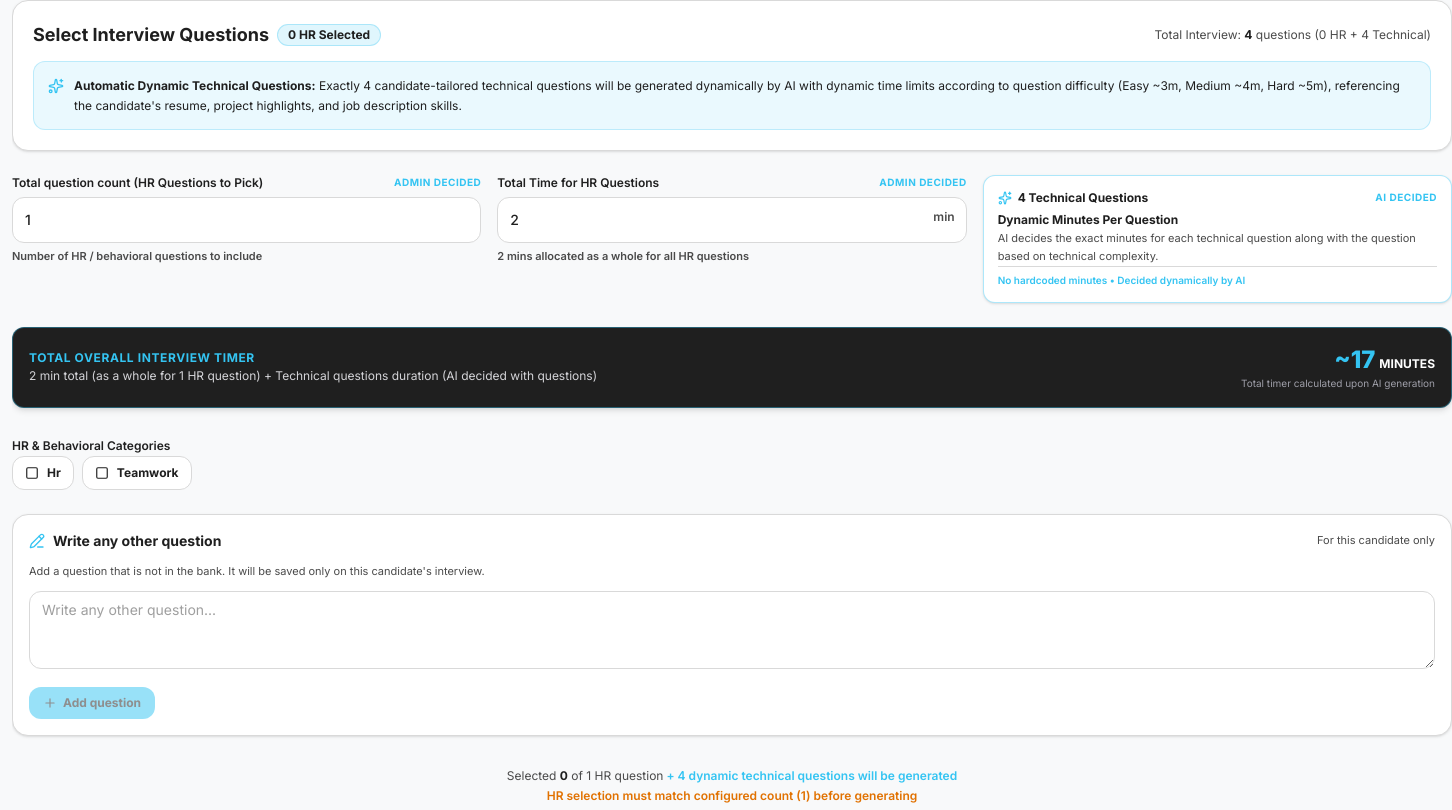
Test: QuestionBankSelector › disables Generate until the selected count matches the configured question count
Expected: the text "hr" is shown, 47,465 -> 61,481
Replace the text in the number field labelled "Total question count" with "2". click: (247, 220)
box: 12,197 -> 481,243
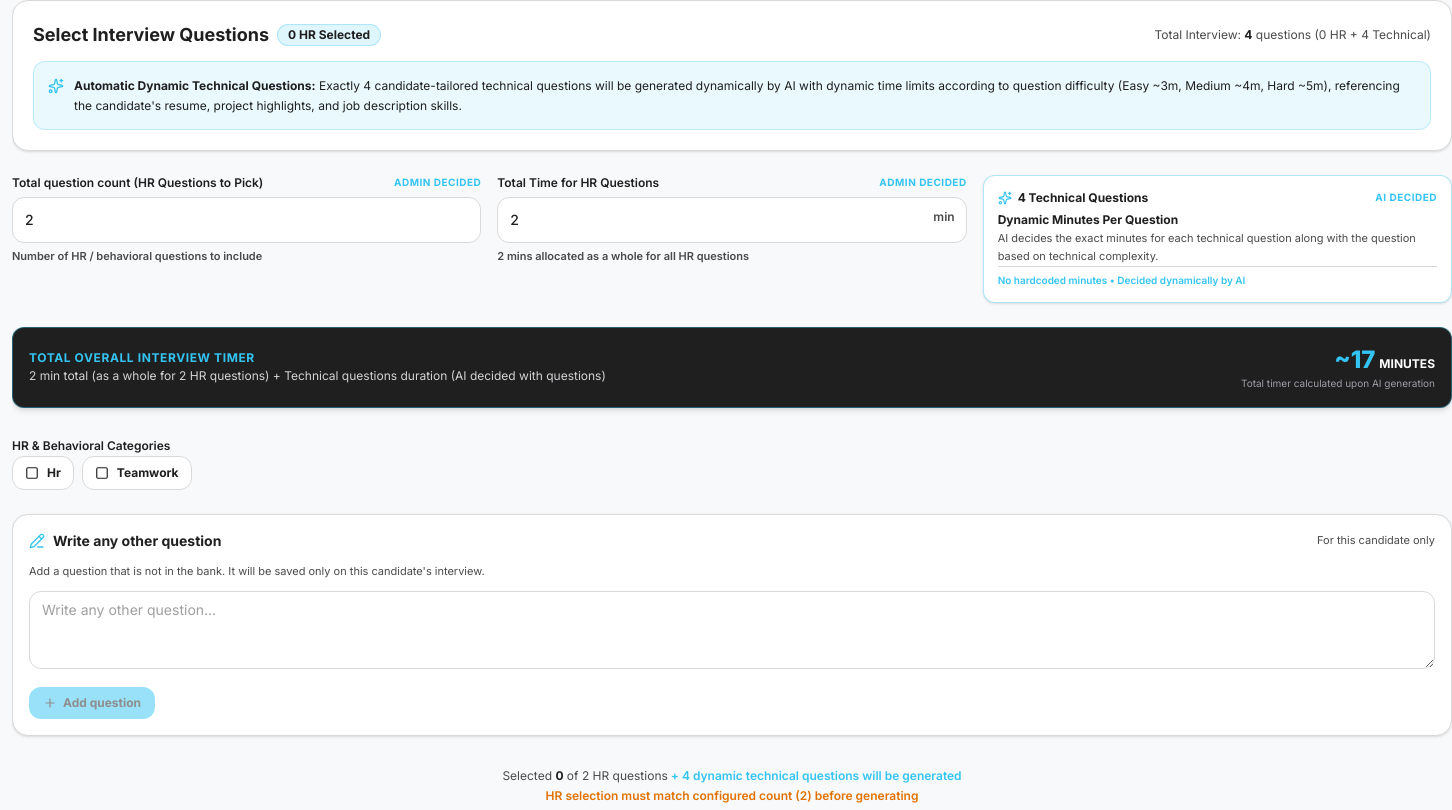
Click the button "hr". click: (43, 473)
box: 12,456 -> 74,490
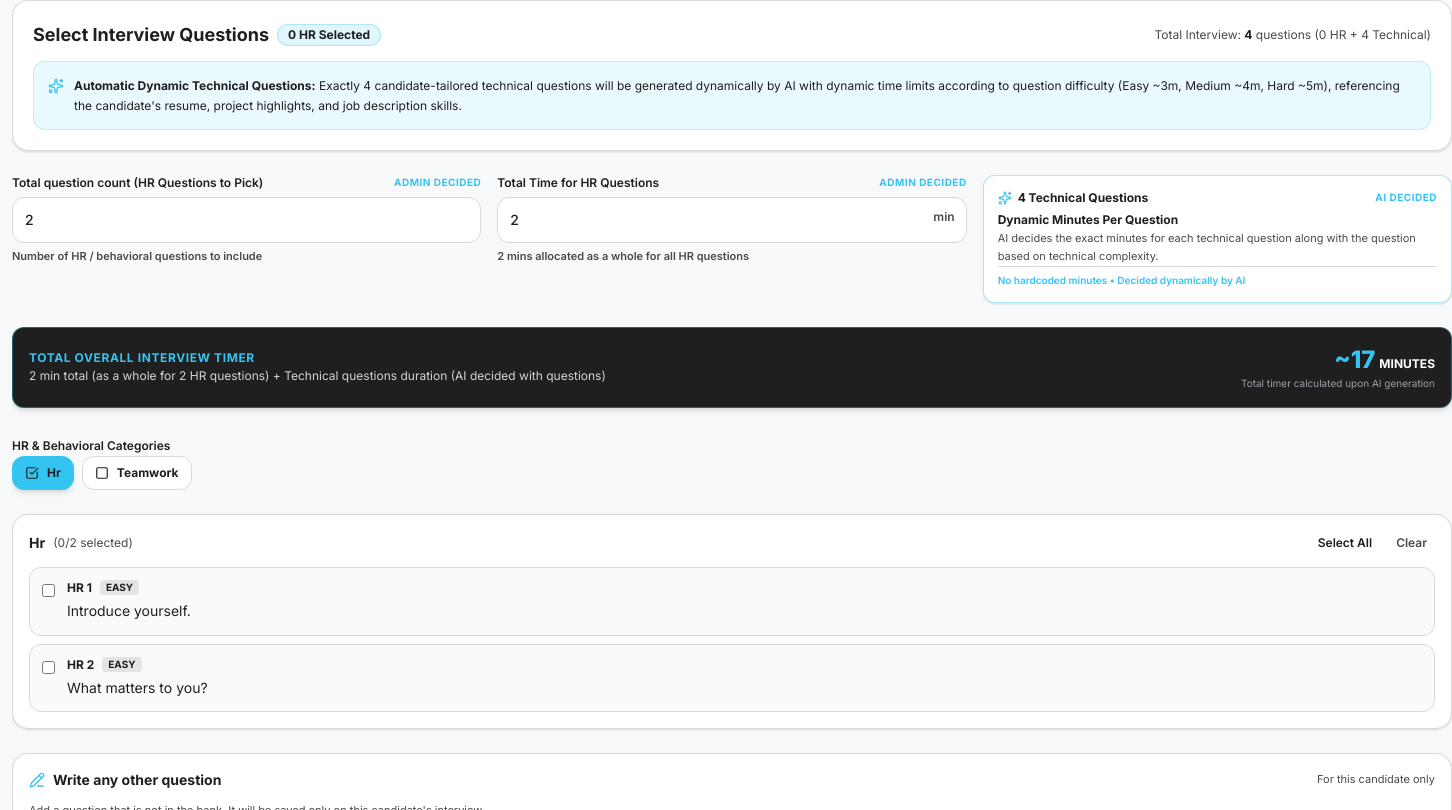
Expected: the text "Introduce yourself." is shown
Click the text "Introduce yourself.". click: (129, 610)
box: 67,602 -> 191,619
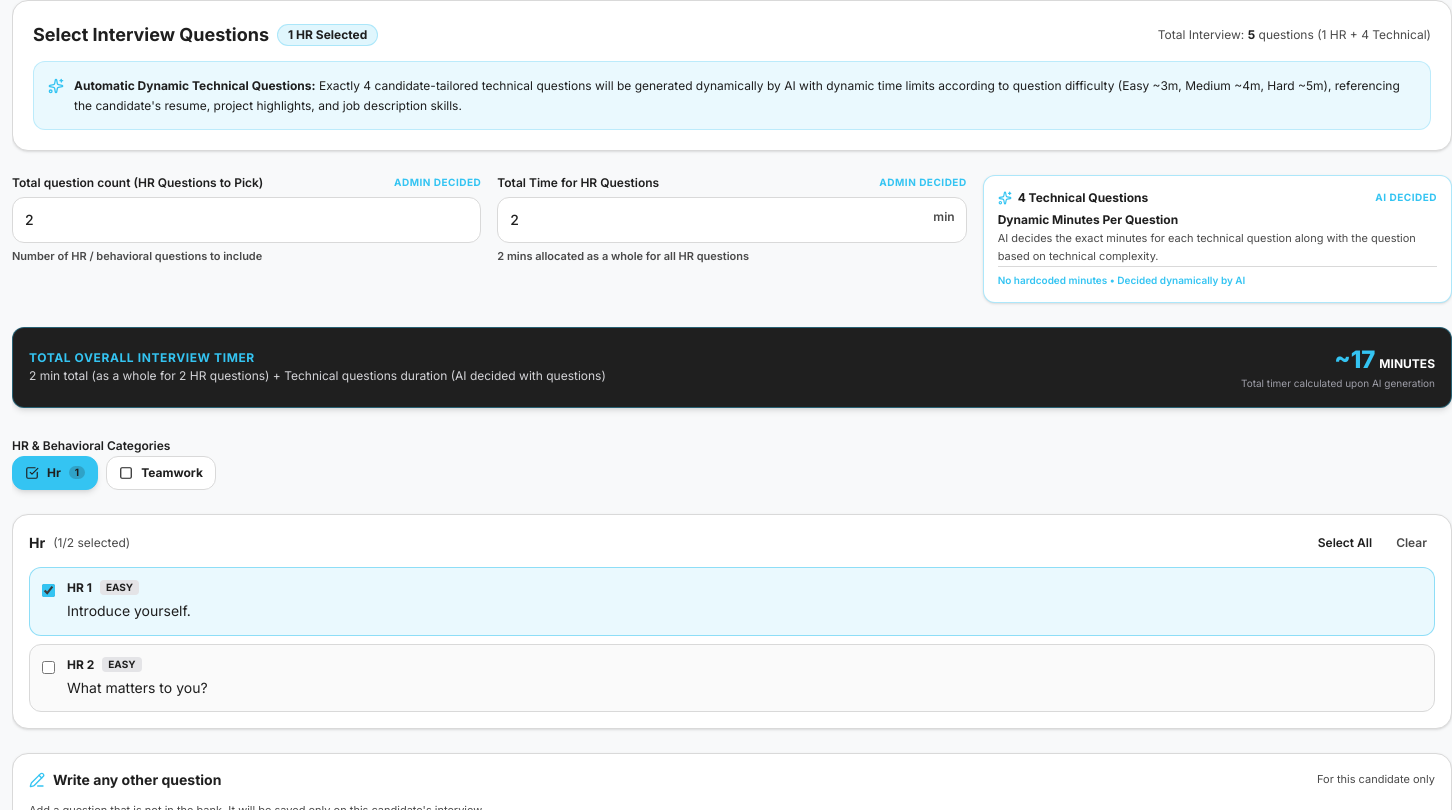
Click the text "What matters to you?". click: (137, 687)
box: 67,678 -> 208,696
(page scrolled)
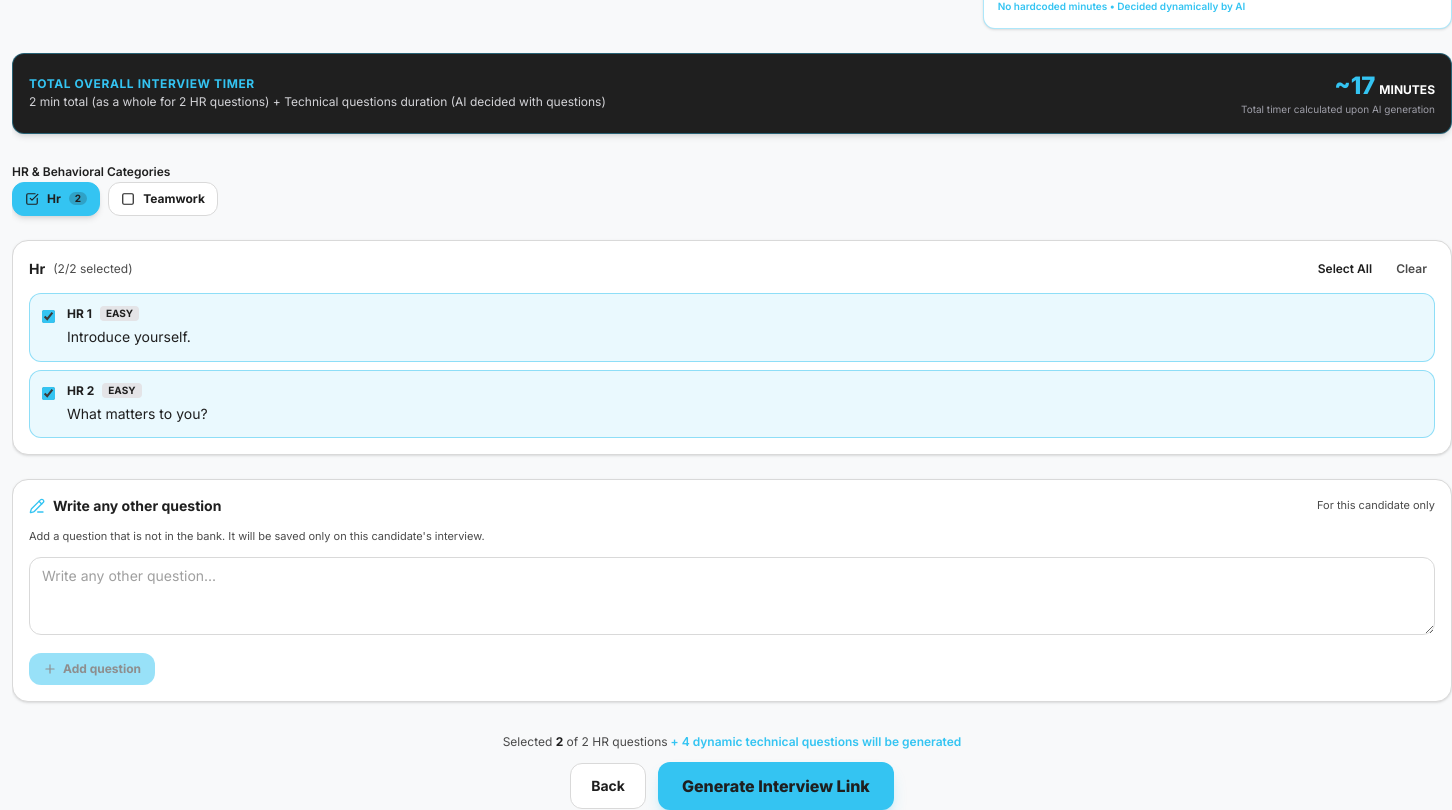
Expected: the button "Generate Interview Link" is enabled, 658,762 -> 894,809
